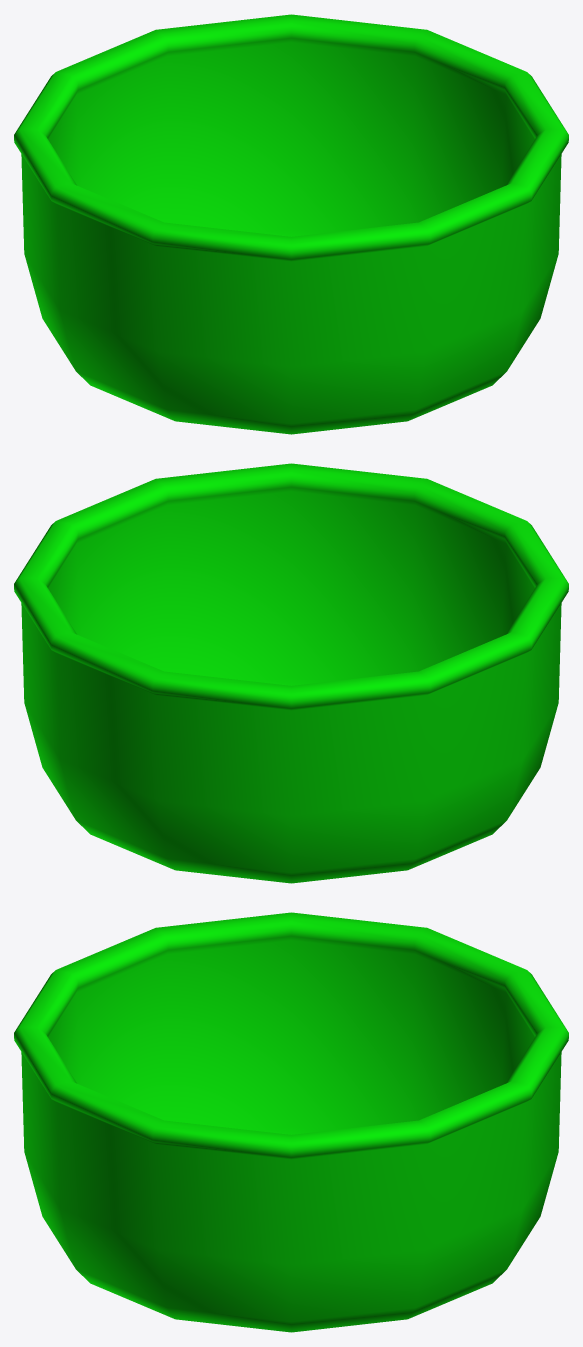
The model's file is Frutero.fbx.
The picture shows the model from 3 angles, top to bottom: view 1: azimuth 30°, elevation 25°; view 2: azimuth 150°, elevation 25°; view 3: azimuth 270°, elevation 25°; orthographic projection.
Parts seen in each view (by area): view 1: pCylinder10; view 2: pCylinder10; view 3: pCylinder10.
Boxes of the visible parts, left/top/right/bottom form: pCylinder10: left=14, top=14, right=568, bottom=434; pCylinder10: left=14, top=463, right=568, bottom=883; pCylinder10: left=14, top=912, right=568, bottom=1332.
Bounding box in the file's own units: 0.4806 × 0.2088 × 0.4806.
